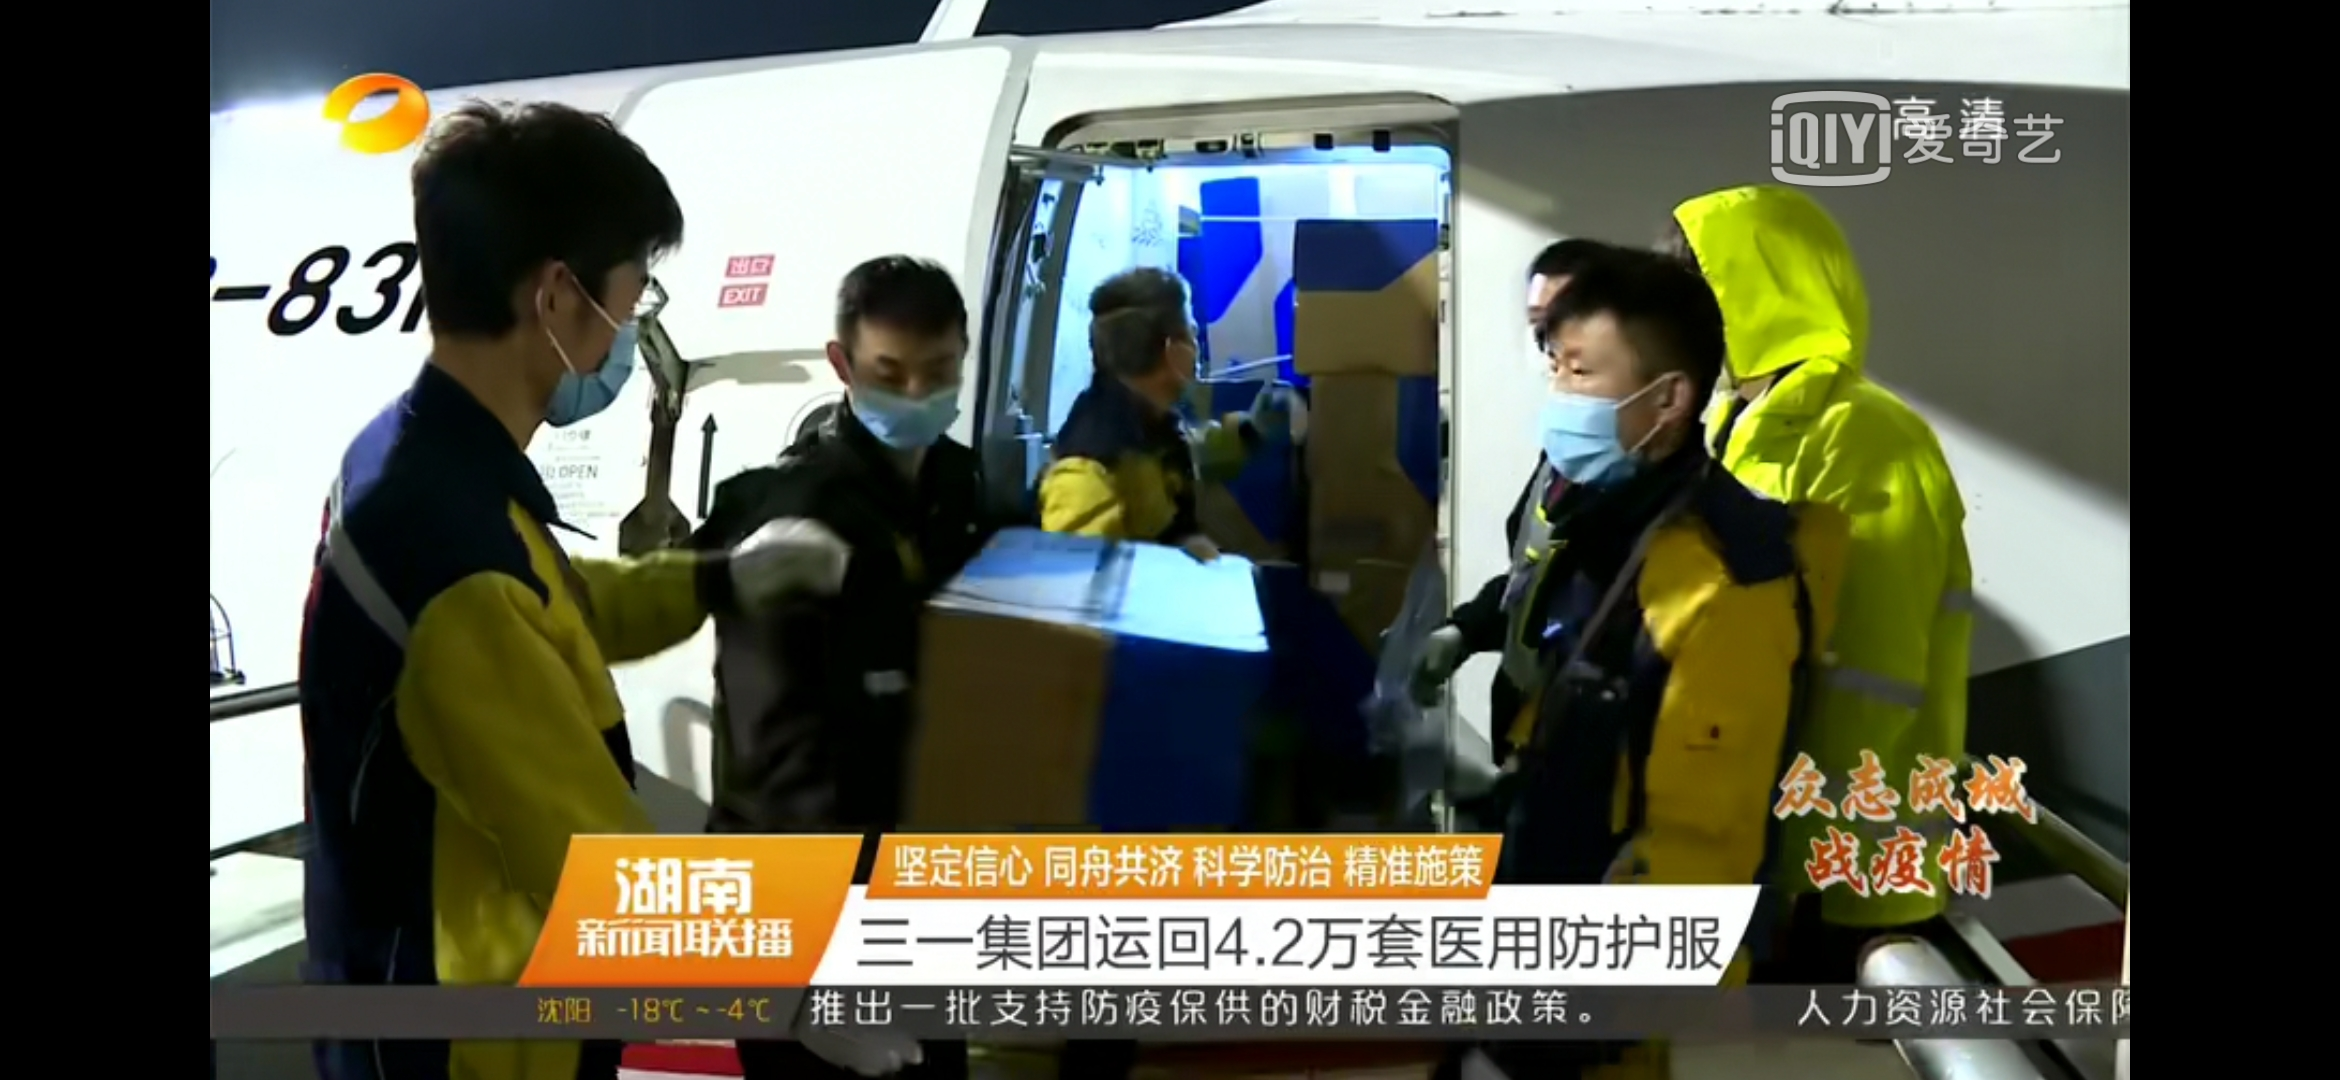correctlyWear: (519, 240, 667, 428), (1537, 333, 1694, 486), (822, 313, 972, 453), (1158, 301, 1204, 407)
